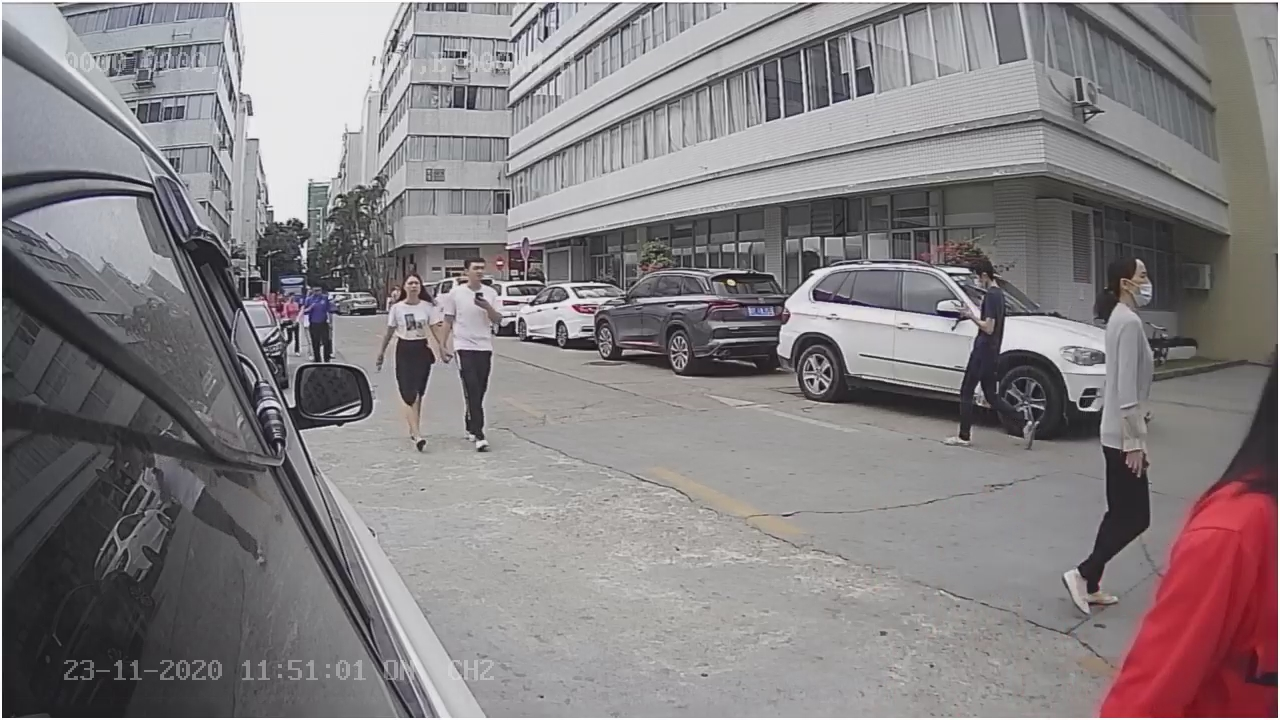person: (1061, 242, 1155, 615), (939, 251, 1040, 454), (373, 258, 449, 450)
